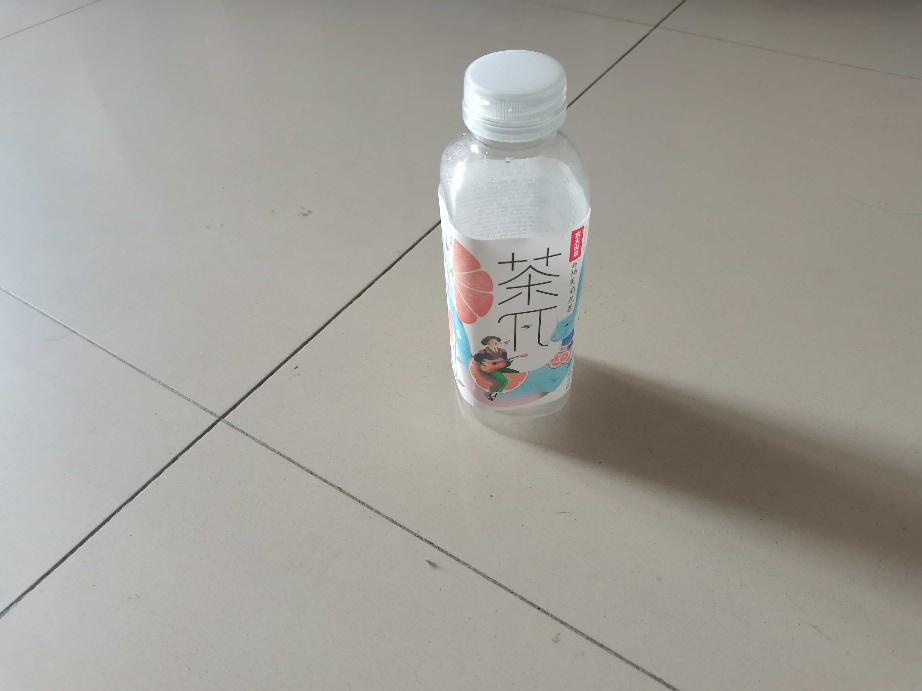plastic bottle: (428, 41, 598, 426)
